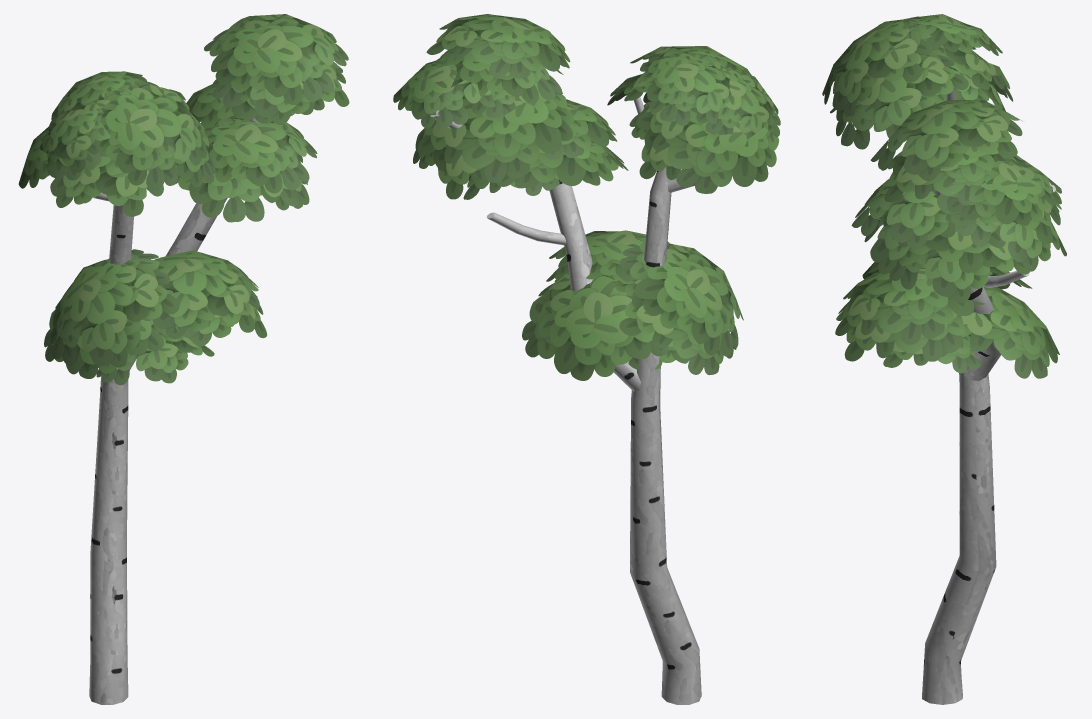
The model's file is birch_2.glb.
The picture shows the model from 3 angles, left to right: view 1: azimuth 30°, elevation 25°; view 2: azimuth 150°, elevation 25°; view 3: azimuth 270°, elevation 25°; orthographic projection. The views are drawn at different scales.
Visible parts, largest first — view 1: Birch_2; view 2: Birch_2; view 3: Birch_2.
Part boxes in pixels (x1=…): Birch_2: x1=18, y1=14, x2=349, y2=704; Birch_2: x1=393, y1=14, x2=780, y2=704; Birch_2: x1=822, y1=14, x2=1066, y2=704.
Size of the model in its own units: 5.11 by 8.94 by 3.06.
Materials: 2 (2 with a texture image).
